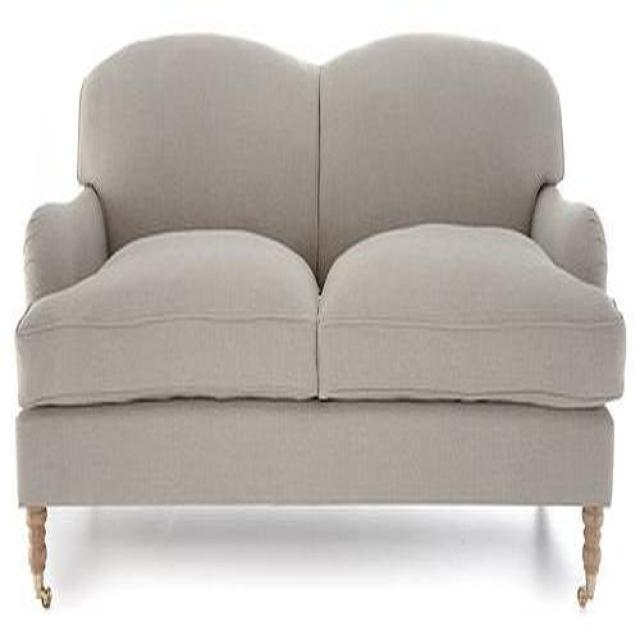sofa: (13, 33, 627, 608)
